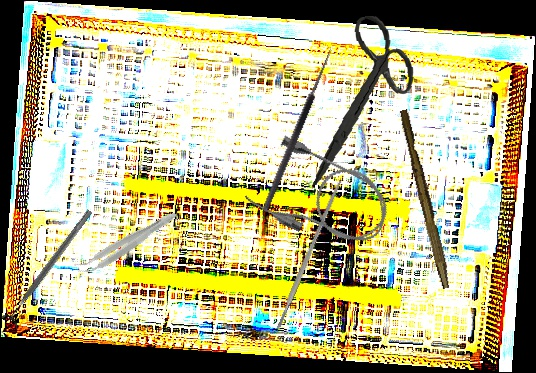Cannula: (241, 130, 401, 264)
Fixation Ring: (0, 205, 99, 330)
Hook Surgical: (253, 42, 336, 213)
Iris Scissors: (295, 12, 425, 185)
Scalpel Handle: (395, 108, 456, 290), (273, 179, 344, 330)
Tissue Forceps: (73, 204, 180, 281)
